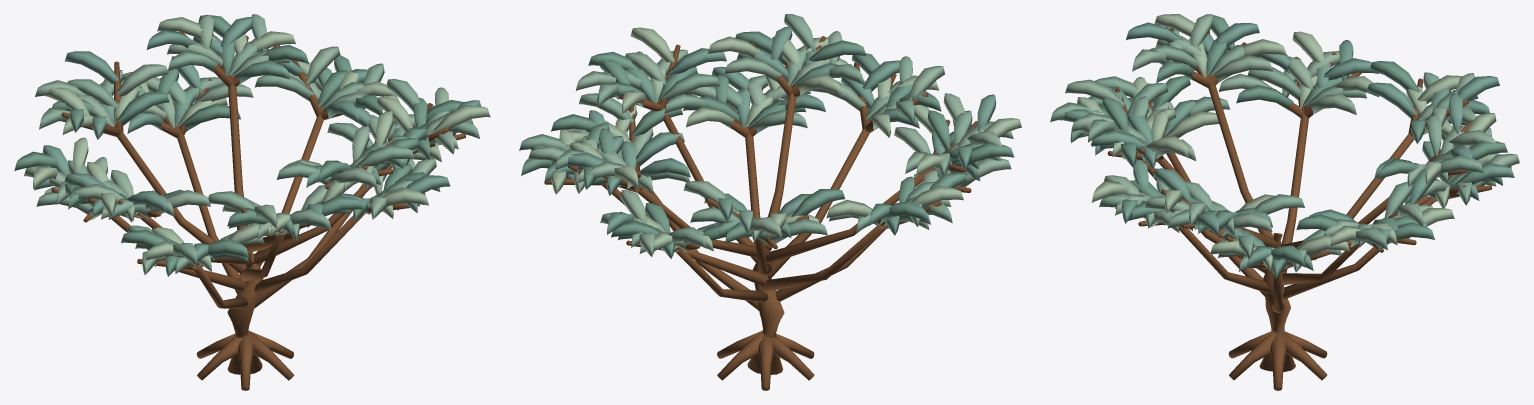
The model's file is hero-juniper.glb.
The picture shows the model from 3 angles, left to right: view 1: azimuth 30°, elevation 25°; view 2: azimuth 150°, elevation 25°; view 3: azimuth 270°, elevation 25°; orthographic projection.
Visible parts, largest first — view 1: Tapered fluted trunk.005, Primary branch.073, Primary branch.069, Primary branch.076, Primary branch.068, Primary branch.074, Folded juniper leaf.127, Primary branch.071, Primary branch.066, Folded juniper leaf.124, Folded juniper leaf.126, Folded juniper leaf.143 (+48 smaller); view 2: Tapered fluted trunk.005, Primary branch.070, Primary branch.075, Primary branch.077, Primary branch.072, Primary branch.068, Primary branch.071, Primary branch.076, Primary branch.074, Folded juniper leaf.140, Primary branch.069, Folded juniper leaf.142 (+49 smaller); view 3: Tapered fluted trunk.005, Primary branch.075, Primary branch.070, Primary branch.069, Primary branch.068, Primary branch.071, Folded juniper leaf.156, Folded juniper leaf.113, Folded juniper leaf.115, Folded juniper leaf.065, Folded juniper leaf.028, Folded juniper leaf.069 (+56 smaller).
Boxes of the visible parts, x1=… form: Tapered fluted trunk.005: x1=227, y1=252, x2=263, y2=374; Primary branch.073: x1=117, y1=131, x2=247, y2=273; Primary branch.069: x1=254, y1=213, x2=364, y2=293; Primary branch.076: x1=228, y1=83, x2=247, y2=229; Primary branch.068: x1=177, y1=133, x2=240, y2=294; Primary branch.074: x1=246, y1=164, x2=391, y2=269; Folded juniper leaf.127: x1=64, y1=51, x2=118, y2=83; Primary branch.071: x1=240, y1=114, x2=324, y2=278; Primary branch.066: x1=254, y1=184, x2=364, y2=308; Folded juniper leaf.124: x1=117, y1=92, x2=169, y2=125; Folded juniper leaf.126: x1=116, y1=64, x2=168, y2=96; Folded juniper leaf.143: x1=433, y1=105, x2=490, y2=139; Tapered fluted trunk.005: x1=747, y1=242, x2=784, y2=374; Primary branch.070: x1=761, y1=226, x2=884, y2=291; Primary branch.075: x1=765, y1=167, x2=936, y2=264; Primary branch.077: x1=764, y1=93, x2=796, y2=250; Primary branch.072: x1=767, y1=128, x2=869, y2=279; Primary branch.068: x1=676, y1=251, x2=768, y2=302; Primary branch.071: x1=602, y1=183, x2=767, y2=285; Primary branch.076: x1=637, y1=188, x2=769, y2=258; Primary branch.074: x1=662, y1=107, x2=769, y2=264; Folded juniper leaf.140: x1=661, y1=73, x2=720, y2=101; Primary branch.069: x1=745, y1=133, x2=760, y2=244; Folded juniper leaf.142: x1=668, y1=48, x2=726, y2=74; Tapered fluted trunk.005: x1=1259, y1=233, x2=1295, y2=371; Primary branch.075: x1=1208, y1=82, x2=1273, y2=237; Primary branch.070: x1=1281, y1=114, x2=1308, y2=285; Primary branch.069: x1=1178, y1=225, x2=1270, y2=293; Primary branch.068: x1=1283, y1=196, x2=1434, y2=299; Primary branch.071: x1=1282, y1=243, x2=1359, y2=285; Folded juniper leaf.156: x1=1213, y1=55, x2=1273, y2=83; Folded juniper leaf.113: x1=1366, y1=82, x2=1417, y2=118; Folded juniper leaf.115: x1=1369, y1=61, x2=1420, y2=92; Folded juniper leaf.065: x1=1236, y1=85, x2=1293, y2=111; Folded juniper leaf.028: x1=1166, y1=111, x2=1219, y2=138; Folded juniper leaf.069: x1=1247, y1=67, x2=1301, y2=99.
Bounding box in the file's own units: 0.2429 × 0.1507 × 0.2324.
